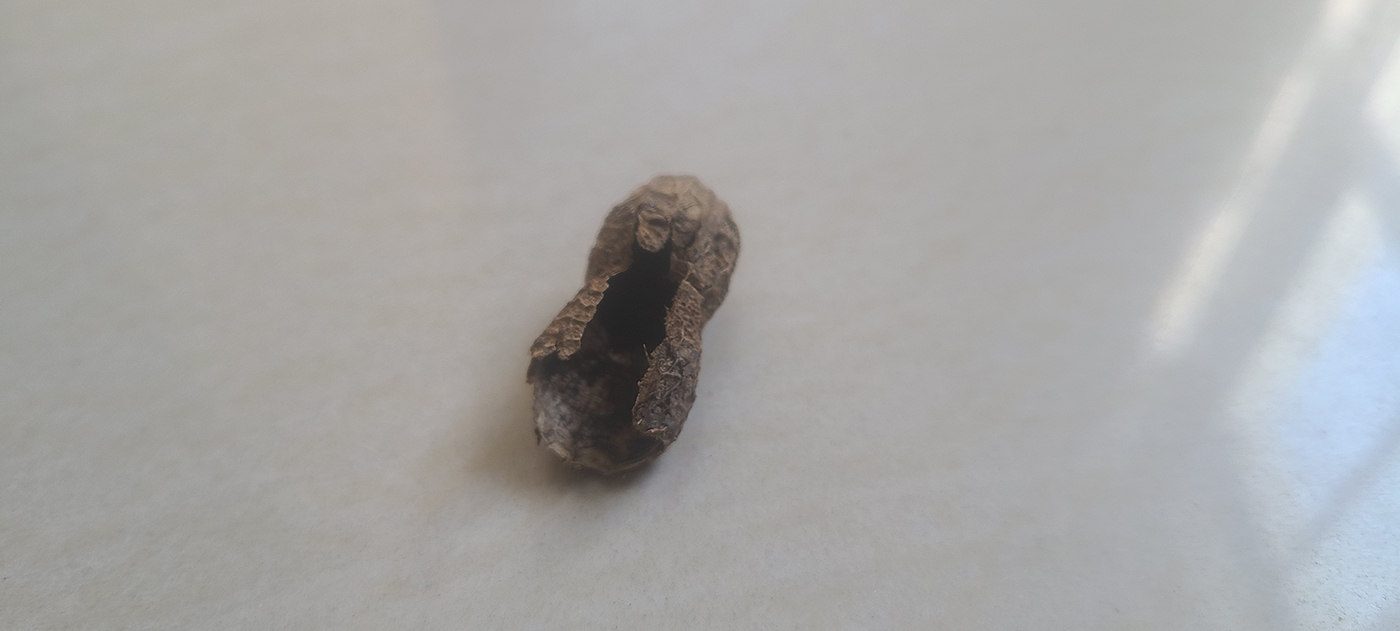l: (529, 167, 741, 482)
